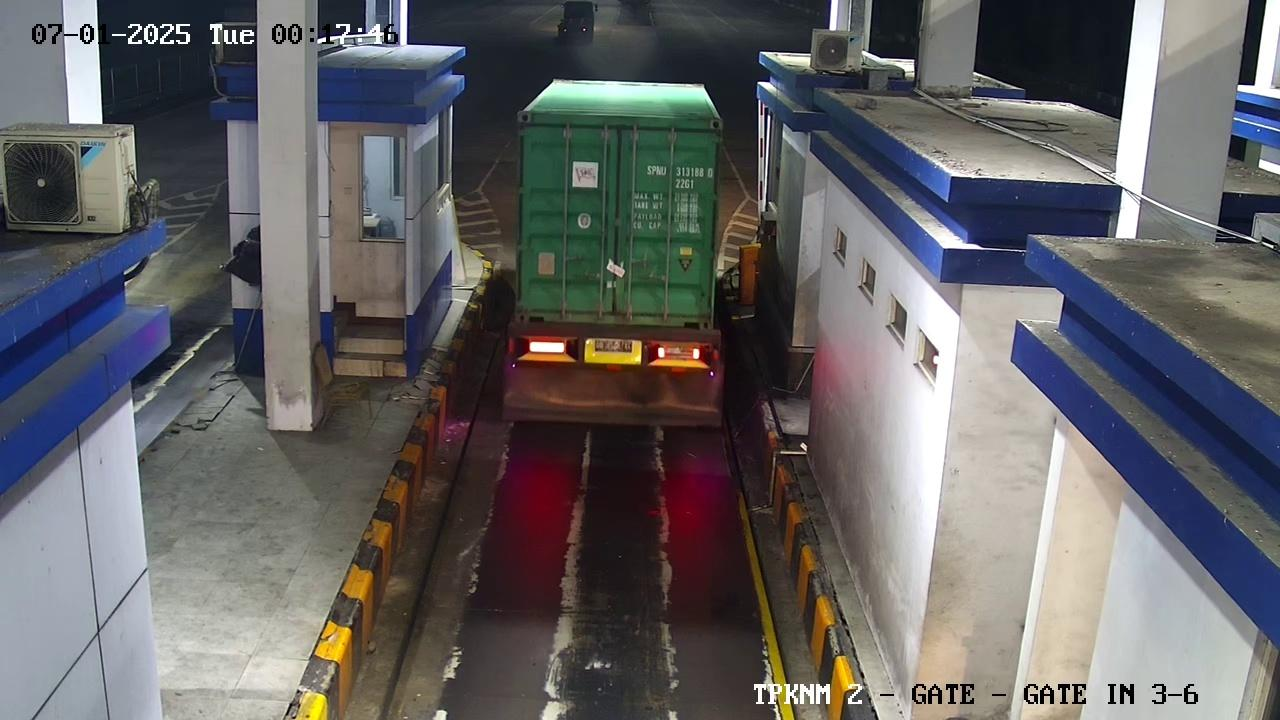Container_ID: (632, 157, 719, 195)
plate_number: (587, 329, 646, 363)
